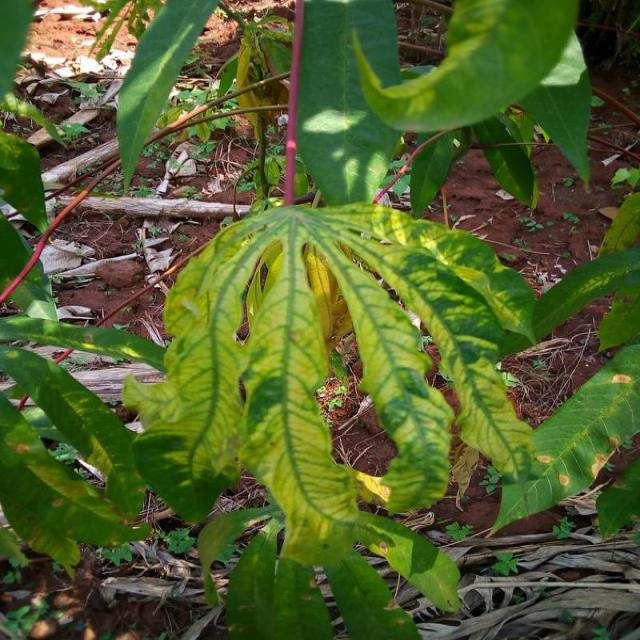cassava leaf: (0, 1, 638, 637), (123, 200, 538, 568), (349, 0, 580, 134), (293, 0, 405, 206), (114, 0, 220, 192)
